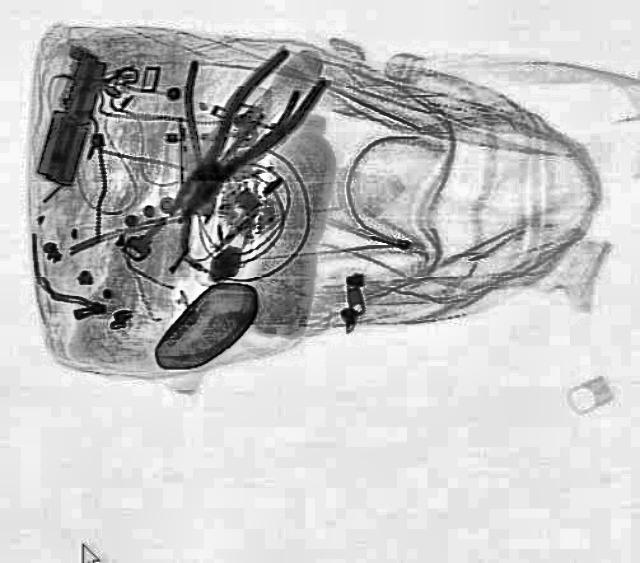Pliers: (148, 42, 334, 234), (120, 52, 302, 228)
